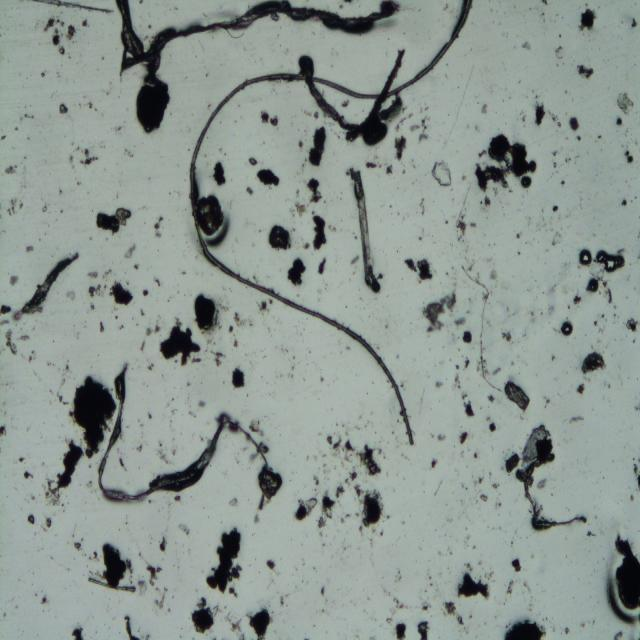Air bubble: (596, 250, 620, 271), (578, 246, 594, 266), (562, 323, 573, 336)
Background material: (473, 132, 539, 202), (70, 375, 118, 462), (41, 438, 83, 511), (606, 533, 640, 623), (205, 528, 241, 594), (350, 484, 392, 539), (133, 74, 171, 133), (157, 317, 204, 362), (193, 194, 230, 243), (418, 297, 459, 336), (102, 542, 134, 588), (190, 292, 219, 336), (30, 0, 113, 15), (94, 208, 132, 237), (454, 572, 492, 600), (524, 425, 554, 460), (500, 378, 530, 413), (192, 595, 216, 636), (503, 618, 547, 640), (403, 252, 434, 283), (248, 604, 274, 640), (258, 468, 284, 503), (308, 124, 328, 168), (406, 108, 431, 143), (227, 314, 249, 352), (88, 576, 136, 593), (426, 158, 452, 189), (356, 448, 380, 481), (475, 338, 493, 382), (324, 433, 354, 459), (308, 214, 328, 252), (287, 255, 309, 288), (222, 366, 248, 393), (267, 222, 292, 250), (581, 349, 607, 375), (382, 588, 410, 611), (292, 496, 320, 519), (320, 496, 336, 533), (506, 453, 526, 482), (47, 358, 71, 382), (335, 472, 361, 494), (442, 600, 464, 626), (122, 615, 144, 640), (111, 282, 133, 306), (305, 177, 324, 204), (257, 167, 281, 188), (454, 364, 468, 400), (585, 269, 605, 293), (531, 100, 547, 129), (76, 146, 99, 166), (578, 8, 597, 32), (392, 135, 408, 163), (451, 215, 470, 238), (617, 91, 635, 115), (152, 584, 168, 610), (4, 329, 18, 358), (485, 262, 503, 282), (146, 564, 162, 585), (314, 255, 330, 276), (260, 109, 278, 127), (7, 197, 24, 216), (249, 417, 266, 436), (292, 200, 306, 223), (576, 63, 596, 79), (43, 18, 65, 32), (212, 350, 230, 367), (259, 439, 275, 458), (567, 116, 583, 135), (214, 162, 226, 187), (88, 282, 106, 298), (416, 620, 430, 640), (463, 399, 475, 422), (550, 110, 562, 132), (632, 462, 640, 492), (158, 532, 168, 556), (625, 317, 639, 334), (123, 242, 137, 259), (394, 622, 407, 640), (155, 215, 165, 237), (486, 418, 498, 436), (266, 560, 279, 576), (65, 24, 77, 41), (105, 78, 115, 97), (72, 626, 85, 640), (554, 46, 567, 60), (506, 579, 516, 597), (231, 618, 243, 633), (550, 199, 561, 215), (602, 288, 613, 304), (138, 579, 148, 596), (178, 522, 191, 535), (551, 233, 563, 247), (419, 600, 431, 614), (53, 28, 62, 46), (512, 556, 522, 572), (458, 429, 468, 445), (348, 253, 360, 266), (616, 255, 626, 270), (522, 579, 532, 594), (484, 569, 496, 581), (480, 491, 492, 503), (65, 289, 77, 301), (88, 550, 100, 562), (56, 393, 68, 405), (6, 163, 17, 176), (432, 378, 443, 391), (480, 102, 490, 116), (228, 586, 238, 600), (224, 610, 234, 624), (624, 150, 634, 164), (67, 153, 75, 170), (526, 595, 534, 612), (119, 458, 128, 473), (626, 138, 637, 150), (0, 303, 12, 314), (58, 102, 69, 114), (212, 604, 222, 617), (27, 350, 37, 363), (27, 513, 37, 526), (419, 195, 425, 216), (196, 397, 207, 408), (576, 382, 586, 394), (259, 302, 271, 312), (122, 148, 134, 158), (10, 274, 20, 286), (228, 498, 240, 508), (446, 543, 454, 558), (572, 294, 582, 306), (464, 330, 474, 342), (0, 423, 8, 438), (569, 415, 583, 423), (464, 561, 474, 572), (151, 276, 162, 286), (102, 268, 111, 280), (503, 330, 512, 342), (244, 185, 253, 197), (23, 111, 35, 120), (464, 534, 471, 549), (45, 515, 52, 530), (278, 594, 286, 607), (492, 366, 502, 376), (613, 631, 624, 640), (586, 529, 597, 538), (394, 570, 401, 584), (365, 160, 377, 168), (73, 539, 81, 551), (87, 270, 99, 278), (58, 44, 66, 56), (89, 571, 102, 578), (24, 470, 34, 479), (248, 158, 258, 167), (72, 523, 78, 538), (459, 627, 469, 636), (98, 319, 104, 334), (521, 41, 531, 50), (86, 101, 95, 111), (303, 241, 311, 252), (620, 196, 628, 207), (474, 476, 482, 487), (42, 201, 48, 215), (19, 334, 31, 341), (113, 126, 122, 135), (436, 434, 446, 442), (487, 393, 495, 403), (616, 117, 624, 127), (617, 247, 625, 256), (140, 340, 146, 352), (145, 327, 153, 336), (385, 616, 393, 625), (253, 512, 259, 524), (428, 574, 434, 586), (39, 70, 48, 78), (85, 479, 93, 488), (0, 318, 9, 326), (385, 166, 393, 175), (491, 482, 499, 491), (25, 245, 35, 252), (296, 141, 306, 148), (320, 586, 326, 597), (631, 17, 637, 28), (438, 550, 446, 558), (604, 380, 612, 388), (583, 375, 591, 383), (41, 596, 49, 604), (473, 451, 479, 461), (136, 445, 144, 452), (431, 459, 438, 467), (21, 154, 29, 161), (238, 633, 246, 640), (144, 633, 152, 640), (446, 566, 452, 575), (598, 326, 604, 335), (602, 279, 608, 288), (83, 19, 89, 28), (139, 308, 145, 317), (502, 31, 509, 38), (118, 324, 125, 331), (596, 336, 603, 343), (89, 303, 95, 311), (634, 404, 640, 412), (369, 634, 377, 640), (563, 626, 569, 634), (56, 72, 62, 80), (18, 457, 26, 463), (207, 102, 212, 111), (624, 127, 628, 138), (314, 110, 318, 121), (580, 621, 586, 628), (530, 553, 536, 560), (613, 313, 619, 320), (144, 35, 150, 42), (541, 0, 548, 6), (143, 288, 148, 296), (302, 557, 306, 567), (76, 180, 82, 186), (503, 597, 507, 606), (87, 463, 93, 469), (1, 134, 7, 140), (596, 134, 602, 140), (600, 313, 606, 319), (630, 494, 635, 501), (58, 188, 63, 195), (134, 263, 138, 271), (613, 304, 618, 310), (542, 616, 548, 621), (366, 596, 372, 601), (146, 24, 152, 29), (584, 2, 590, 7), (496, 21, 502, 26), (13, 126, 19, 131), (0, 228, 6, 233), (476, 561, 482, 566), (319, 608, 325, 613), (593, 321, 598, 327), (26, 136, 31, 142), (539, 11, 545, 16), (65, 567, 71, 572), (626, 180, 630, 187), (424, 588, 428, 595), (148, 412, 152, 419), (510, 541, 514, 548), (14, 604, 18, 611), (324, 597, 328, 604), (468, 614, 472, 620), (438, 572, 442, 578), (204, 73, 210, 77), (542, 17, 546, 23), (528, 6, 532, 12), (78, 102, 81, 109), (632, 338, 636, 343), (632, 456, 636, 461), (139, 0, 143, 5), (89, 236, 93, 241), (71, 141, 75, 146), (3, 611, 7, 616), (590, 344, 594, 349), (558, 34, 562, 39), (60, 209, 64, 214), (303, 637, 309, 640), (555, 12, 559, 16), (634, 196, 638, 200), (588, 38, 592, 42), (560, 16, 564, 20), (114, 316, 118, 320), (620, 144, 624, 148), (555, 63, 559, 67), (638, 456, 640, 463), (638, 234, 640, 241), (597, 6, 600, 10), (635, 378, 639, 381), (634, 64, 637, 68), (489, 9, 493, 12), (38, 238, 41, 242), (473, 546, 477, 549), (630, 200, 634, 203), (504, 10, 506, 16), (514, 4, 516, 9), (629, 262, 631, 267), (638, 254, 640, 259), (488, 0, 491, 3), (600, 149, 603, 152), (588, 33, 590, 37), (496, 10, 498, 14), (628, 376, 630, 380), (595, 139, 597, 143), (550, 18, 552, 22), (638, 216, 640, 219), (493, 21, 495, 24), (554, 20, 556, 23), (580, 5, 582, 8), (514, 46, 516, 49), (573, 59, 575, 62), (598, 48, 600, 51), (499, 1, 501, 4), (571, 63, 573, 66), (516, 35, 518, 37), (563, 62, 564, 65)
Cellulose filter fibre: (95, 361, 268, 507), (117, 0, 403, 72), (297, 47, 408, 140), (521, 456, 585, 535), (348, 161, 379, 294), (23, 252, 79, 314)
Microfibre: (191, 0, 474, 445)
